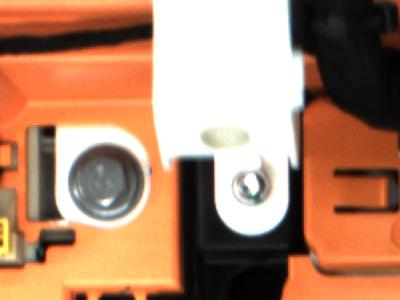nut_b: (65, 142, 148, 220)
